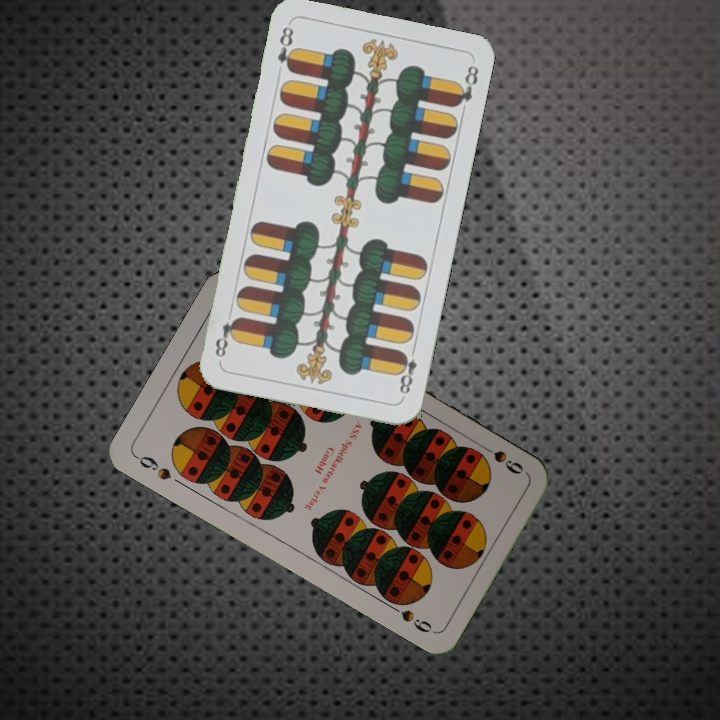E8: (393, 343, 419, 397), (273, 22, 299, 74)
S9: (474, 439, 527, 478), (131, 451, 174, 483)
